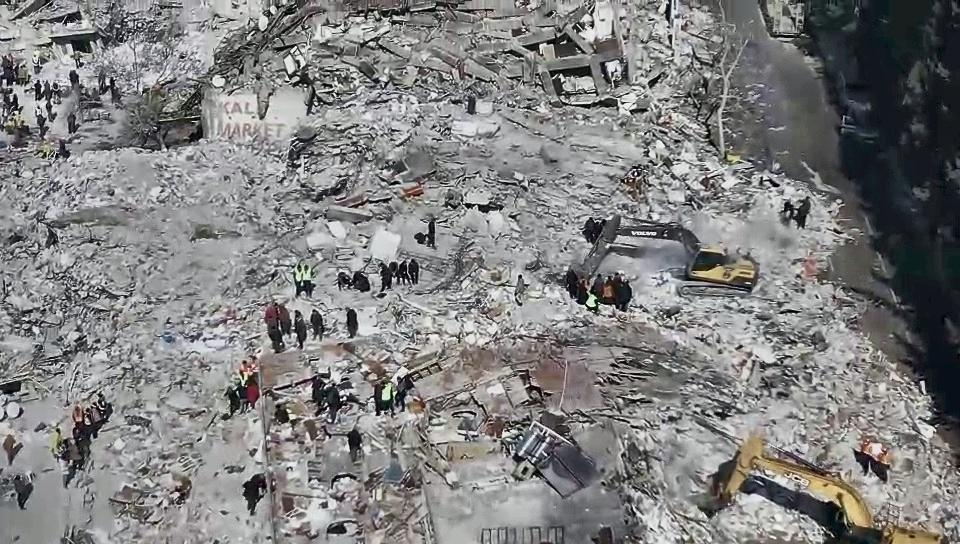kapali: (634, 117, 959, 543)
